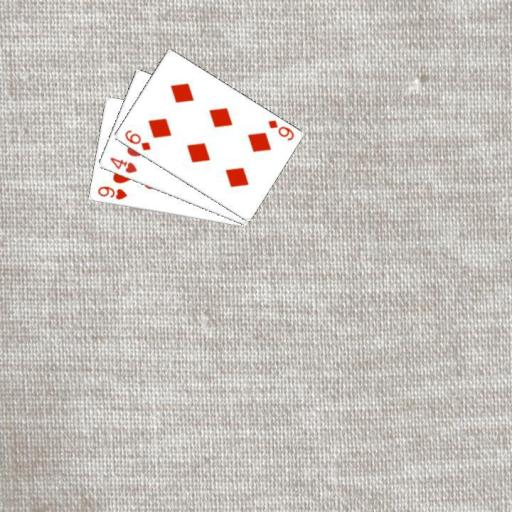4H: (107, 154, 138, 175)
6D: (121, 127, 152, 152), (265, 117, 295, 142)
9H: (95, 184, 128, 202)
